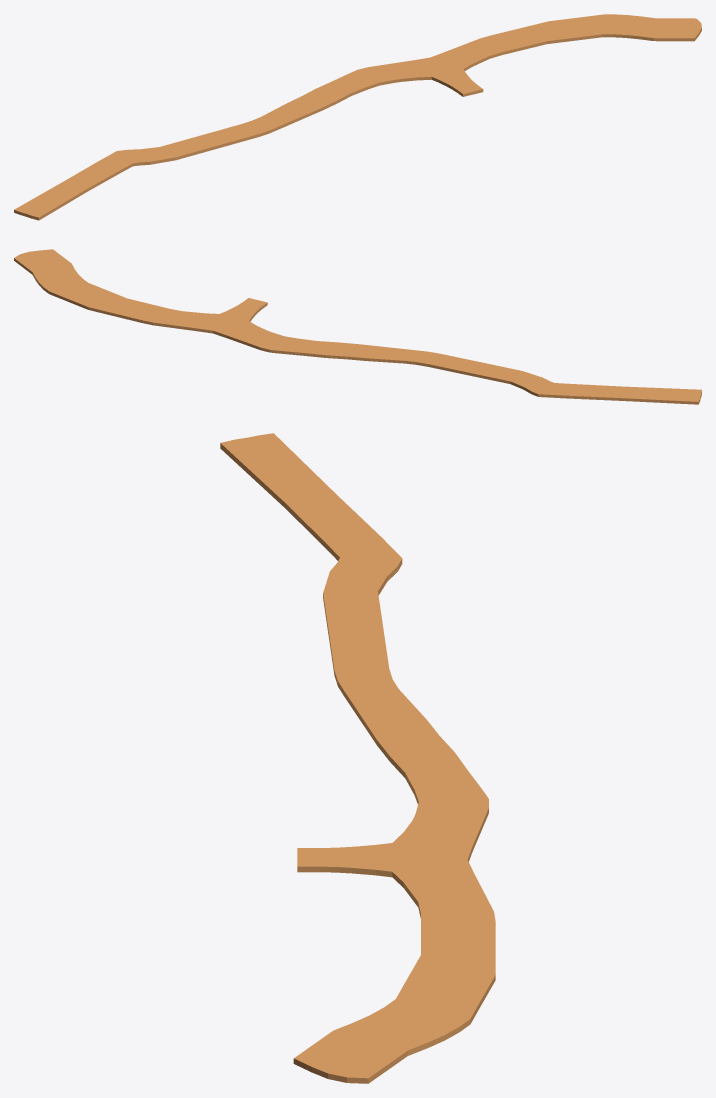
File: road.glb
3 renders of one model, top to bottom at view 1: azimuth 30°, elevation 25°; view 2: azimuth 150°, elevation 25°; view 3: azimuth 270°, elevation 25°, orthographic. The views are drawn at different scales.
Parts seen in each view (by area): view 1: DirtRoad; view 2: DirtRoad; view 3: DirtRoad.
Part boxes in pixels (x1,y1,x2,y2): DirtRoad: [14, 14, 701, 220]; DirtRoad: [14, 249, 701, 404]; DirtRoad: [220, 433, 495, 1083].
Size of the model in its own units: 139 by 0.56 by 25.04.
